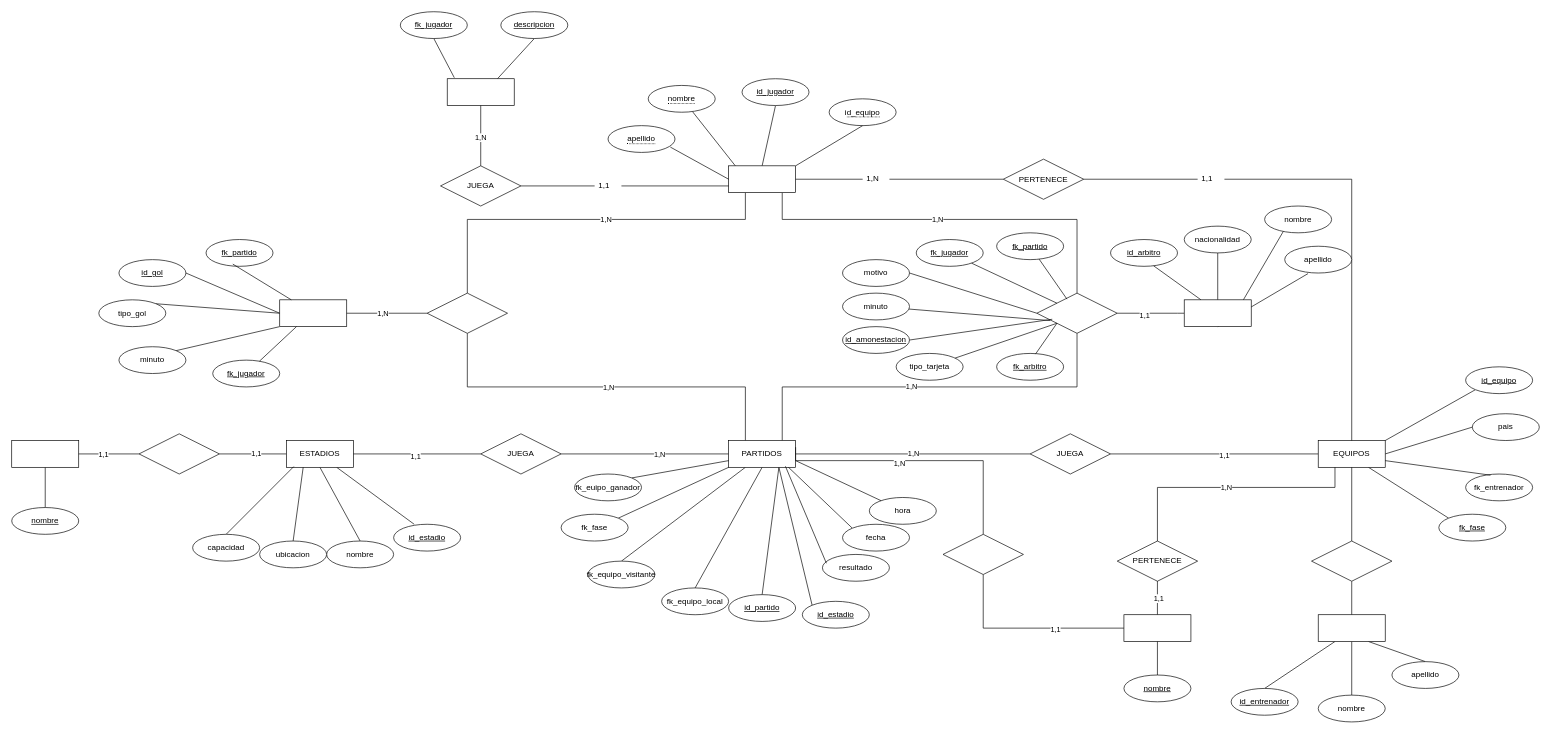
This 1551x734 diagram has some shape labels left out. Each missing label, with the centre of its shape:
"AMONESTA" goes at pixel 1076 312.
"ANOTA" goes at pixel 467 312.
"ARBITROS" goes at pixel 1217 313.
"ENTRENA" goes at pixel 1351 560.
"ENTRENADORES" goes at pixel 1351 628.
"ESTA" goes at pixel 178 453.
"FASE" goes at pixel 1157 628.
"GOLES" goes at pixel 313 313.
"JUGADORES" goes at pixel 762 179.
"POSICIONES" goes at pixel 480 92.
"TIENE" goes at pixel 982 554.
"UBICACIONES" goes at pixel 45 453.
